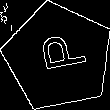P_W: (30, 34, 87, 80)
